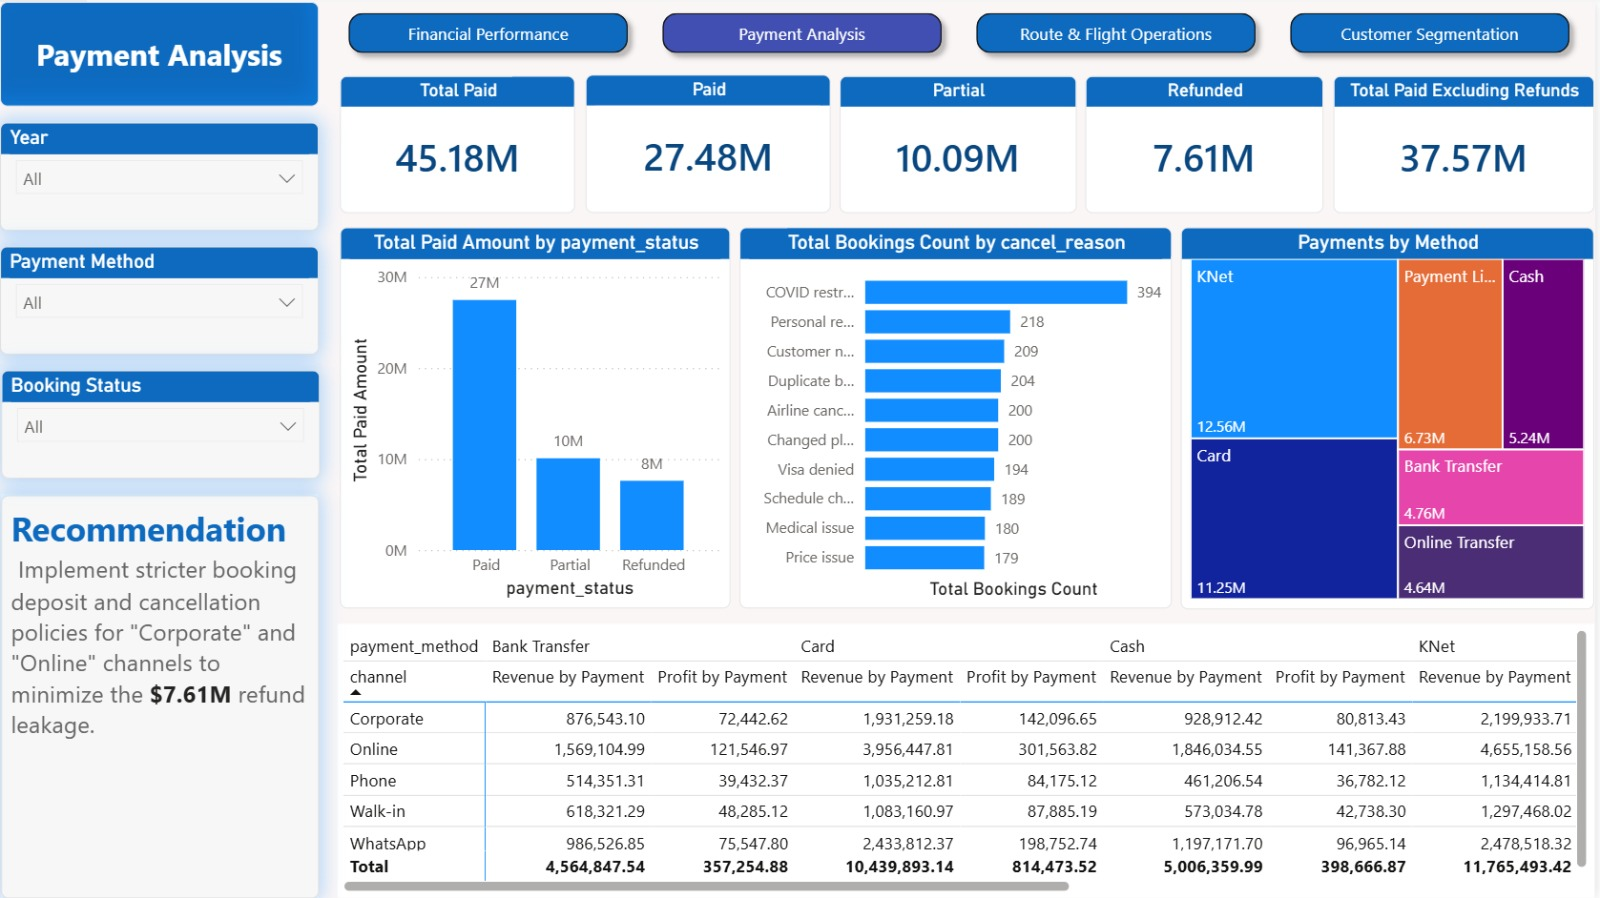

This screenshot's page, from the dashboard's own definition file:
{"tool":"powerbi","page":{"name":"Payment Analysis","canvas":[1280,720],"ordinal":1},"visuals":[{"type":"textbox","box":[0,0,255.7,84.3],"z":0},{"type":"cardVisual","title":"Total Paid","fields":{"Data":["_All Measures.Total Paid Amount"]},"box":[272.9,60,189.1,110.4],"z":0,"group":"g1"},{"type":"slicer","title":"Year","fields":{"Values":["Dim_Date.Year"]},"box":[0,96.5,255.7,87.1],"z":0,"group":"g2"},{"type":"slicer","title":"Payment Method","fields":{"Values":["payments.payment_method"]},"box":[0,195.8,255.7,87.1],"z":0,"group":"g3"},{"type":"slicer","title":"Booking Status","fields":{"Values":["bookings.booking_status"]},"box":[1.2,295.7,255.7,87.1],"z":0,"group":"g5"},{"type":"textbox","box":[1.4,395.7,254.3,324.3],"z":0,"group":"g6"},{"type":"textbox","box":[1.2,396.2,255,323.8],"z":0,"group":"g7"},{"type":"group","id":"g1","title":"Group 2","box":[272.9,58.6,1006.6,111.8],"z":1000},{"type":"cardVisual","title":"Total Paid Excluding Refunds","fields":{"Data":["_All Measures.Net Paid"]},"box":[1070,60,209.5,110.4],"z":1000,"group":"g1"},{"type":"group","id":"g2","title":"Group 1","box":[0,96.5,255.7,87.1],"z":1000,"group":"g8"},{"type":"cardVisual","title":"Refunded","fields":{"Data":["_All Measures.Refinded"]},"box":[871.5,60,191.1,110.4],"z":2000,"group":"g1"},{"type":"group","id":"g3","title":"Group 1","box":[0,195.8,256.2,87.4],"z":2000,"group":"g8"},{"type":"pivotTable","fields":{"Rows":["bookings.channel"],"Values":["_All Measures.Revenue by Payment","_All Measures.Profit by Payment"],"Columns":["payments.payment_method"]},"box":[271.4,500,1008.6,220],"z":2000},{"type":"cardVisual","title":"Paid","fields":{"Data":["_All Measures.Paid"]},"box":[470.2,58.6,197.1,111.4],"z":3000,"group":"g1"},{"type":"group","id":"g4","title":"Group 3","box":[272.9,181.4,1007.1,307.1],"z":3000},{"type":"columnChart","fields":{"Category":["payments.payment_status"],"Y":["_All Measures.Total Paid Amount"]},"box":[272.9,181.4,313.7,306.3],"z":3000,"group":"g4"},{"type":"group","id":"g5","title":"Group 1","box":[1.2,295.7,256.2,87.4],"z":3000,"group":"g8"},{"type":"cardVisual","title":"Partial","fields":{"Data":["_All Measures.Partial"]},"box":[674,60,190.1,110.4],"z":4000,"group":"g1"},{"type":"treemap","title":"Payments by Method","fields":{"Group":["payments.payment_method"],"Values":["_All Measures.Total Paid Amount"]},"box":[948.2,181.6,331.8,306.9],"z":4000,"group":"g4"},{"type":"group","id":"g6","title":"Group 4","box":[1.4,395.7,254.3,324.3],"z":4000},{"type":"group","id":"g7","title":"Group 4","box":[1.2,396.2,255,323.8],"z":5000},{"type":"pageNavigator","box":[271.4,0,1001.4,50],"z":6000},{"type":"clusteredBarChart","fields":{"Category":["bookings.cancel_reason"],"Y":["_All Measures.Total Bookings Count"]},"box":[593.6,181.4,347.3,306.6],"z":6000,"group":"g4"},{"type":"group","id":"g8","title":"Group 5","box":[0,96.5,258.2,287.1],"z":7002}]}

Visuals, with their boxes in screenshot pixels (x1, y1, x2, y2), scaled from the page's 1280x720 canvas onto the 1600x898 screenshot:
textbox: x1=0, y1=0, x2=320, y2=105
"Total Paid" cardVisual: x1=341, y1=75, x2=578, y2=213
"Year" slicer: x1=0, y1=120, x2=320, y2=229
"Payment Method" slicer: x1=0, y1=244, x2=320, y2=353
"Booking Status" slicer: x1=2, y1=369, x2=321, y2=477
textbox: x1=2, y1=494, x2=320, y2=897
textbox: x1=2, y1=494, x2=320, y2=897
"Group 2" group: x1=341, y1=73, x2=1599, y2=213
"Total Paid Excluding Refunds" cardVisual: x1=1338, y1=75, x2=1599, y2=213
"Group 1" group: x1=0, y1=120, x2=320, y2=229
"Refunded" cardVisual: x1=1089, y1=75, x2=1328, y2=213
"Group 1" group: x1=0, y1=244, x2=320, y2=353
pivotTable - bookings.channel x _All Measures.Revenue by Payment: x1=339, y1=624, x2=1599, y2=897
"Paid" cardVisual: x1=588, y1=73, x2=834, y2=212
"Group 3" group: x1=341, y1=226, x2=1599, y2=609
columnChart - payments.payment_status x _All Measures.Total Paid Amount: x1=341, y1=226, x2=733, y2=608
"Group 1" group: x1=2, y1=369, x2=322, y2=478
"Partial" cardVisual: x1=842, y1=75, x2=1080, y2=213
"Payments by Method" treemap: x1=1185, y1=226, x2=1599, y2=609
"Group 4" group: x1=2, y1=494, x2=320, y2=897
"Group 4" group: x1=2, y1=494, x2=320, y2=897
pageNavigator: x1=339, y1=0, x2=1591, y2=62
clusteredBarChart - bookings.cancel_reason x _All Measures.Total Bookings Count: x1=742, y1=226, x2=1176, y2=609
"Group 5" group: x1=0, y1=120, x2=323, y2=478
